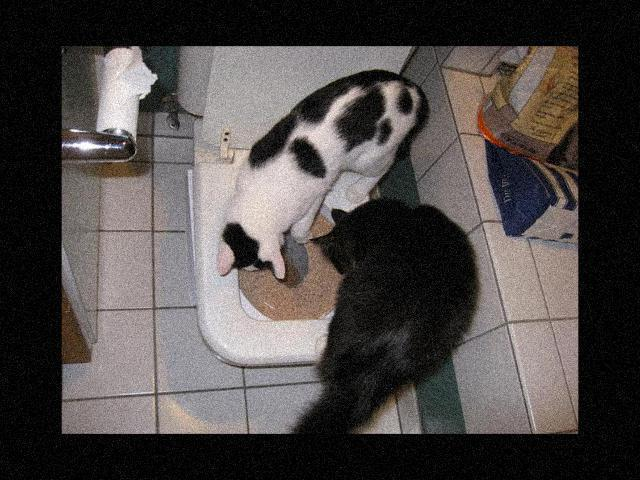Otro Obstaculo: (295, 188, 481, 426), (212, 70, 408, 284)
Sanitario: (192, 48, 453, 390)
